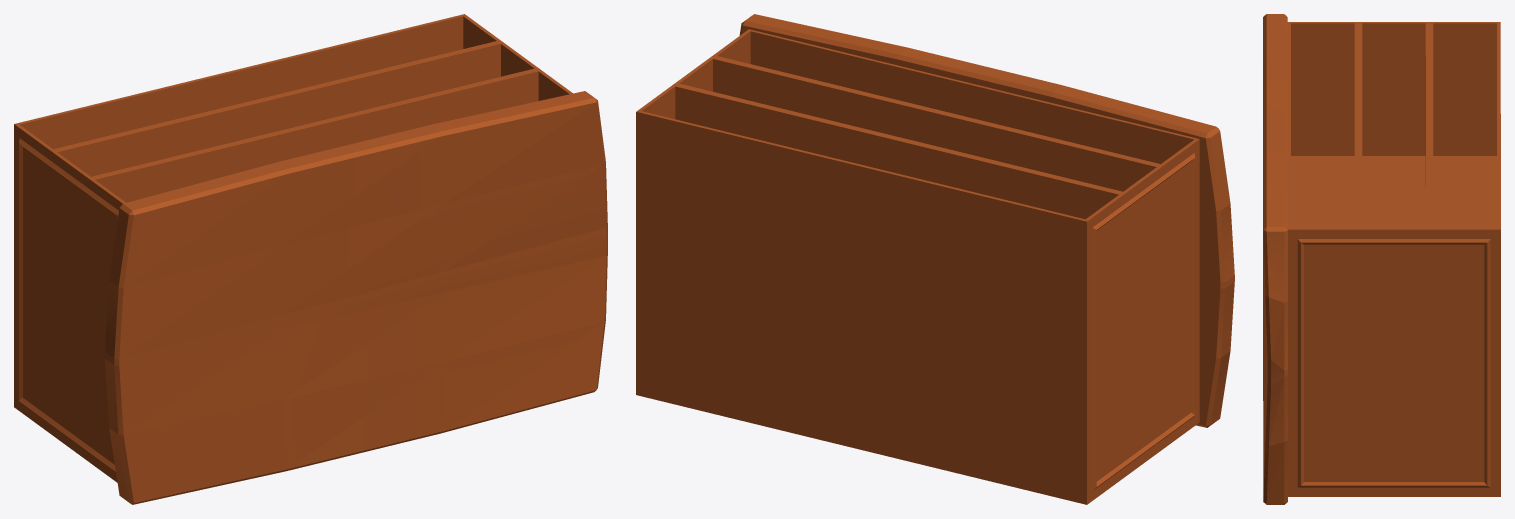
Rendered from MeshCoffeeTable_203_0.obj.
3 renders of one model, left to right at view 1: azimuth 30°, elevation 25°; view 2: azimuth 150°, elevation 25°; view 3: azimuth 270°, elevation 25°, orthographic. The views are drawn at different scales.
Visible parts, largest first — view 1: CoffeeTable_203; view 2: CoffeeTable_203; view 3: CoffeeTable_203.
Boxes of the visible parts, left/top/right/bottom form: CoffeeTable_203: left=14, top=14, right=607, bottom=504; CoffeeTable_203: left=636, top=14, right=1234, bottom=504; CoffeeTable_203: left=1263, top=14, right=1500, bottom=504.
Size of the model in its own units: 1.21 by 0.7033 by 0.5314.
